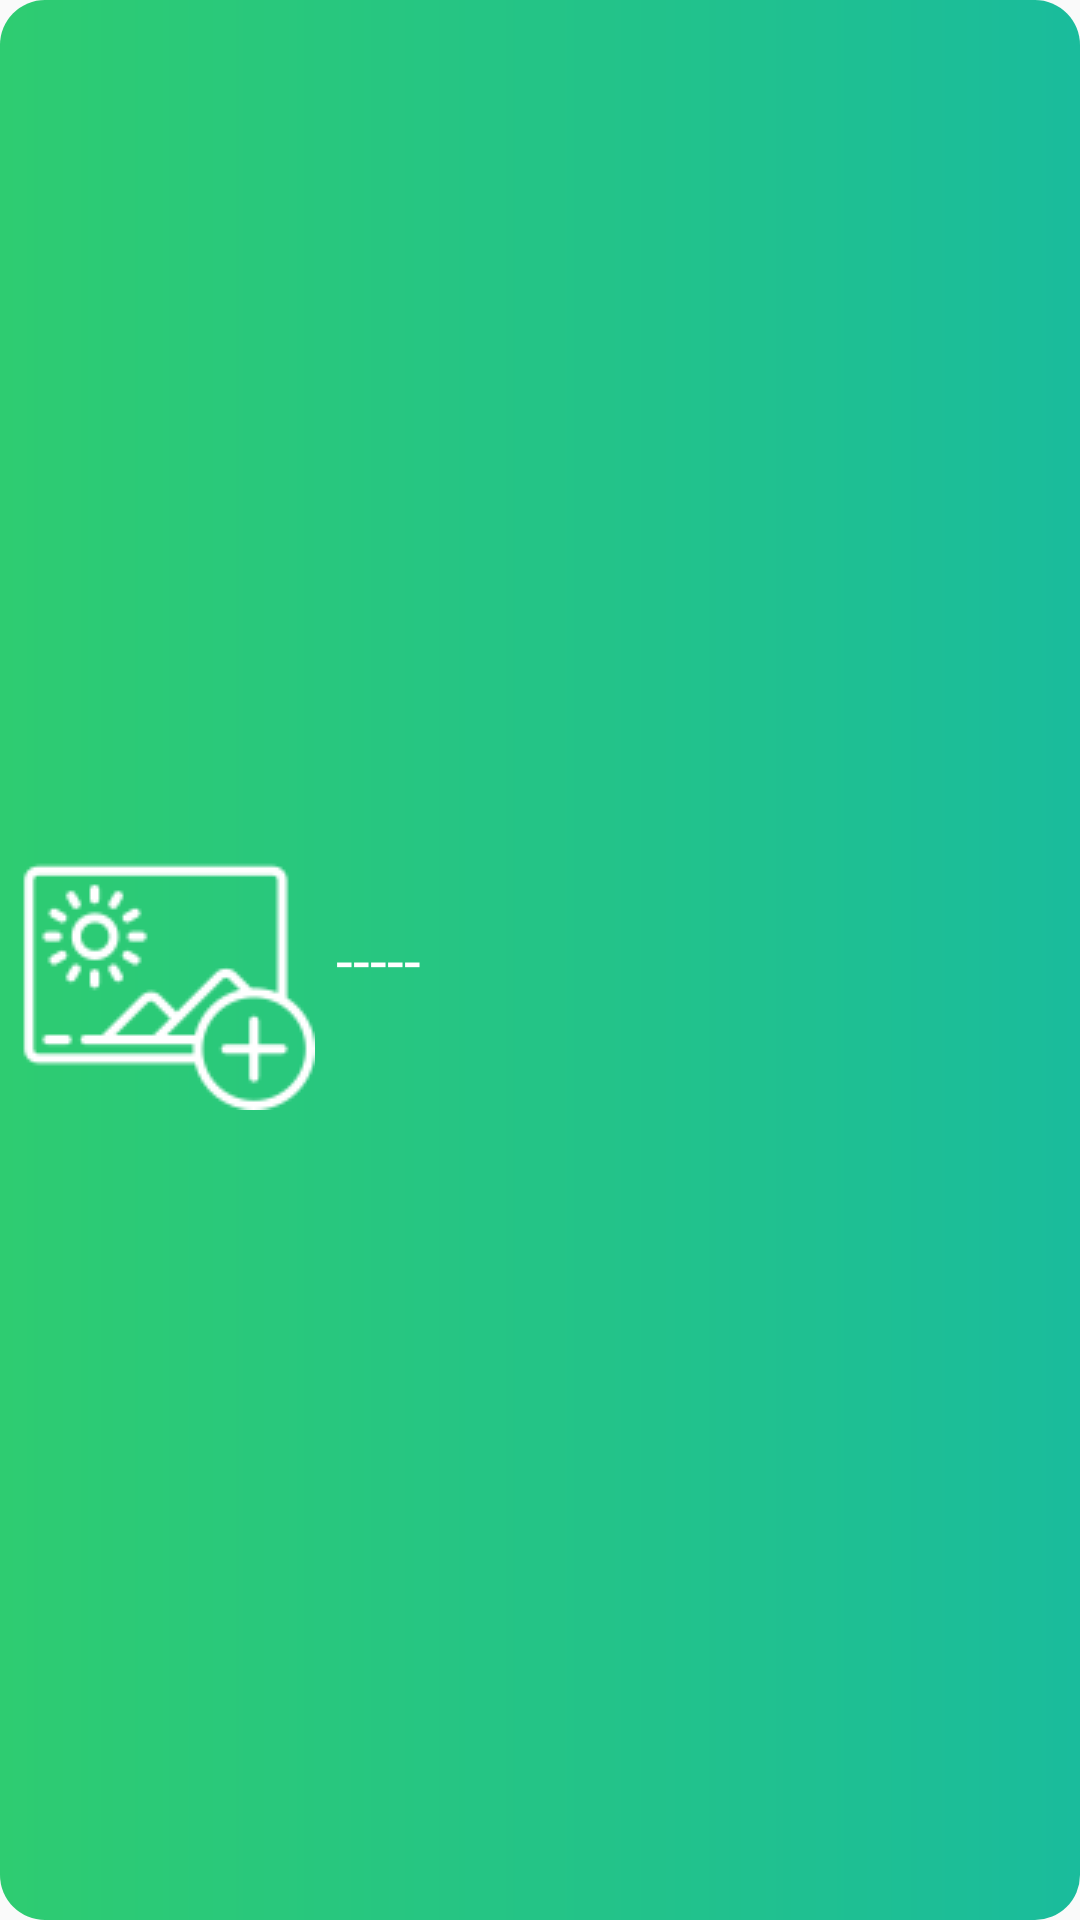

Screen size 1080×1920. Icon name, then its center in pixels as point (x, y):
add: point (169, 987)
